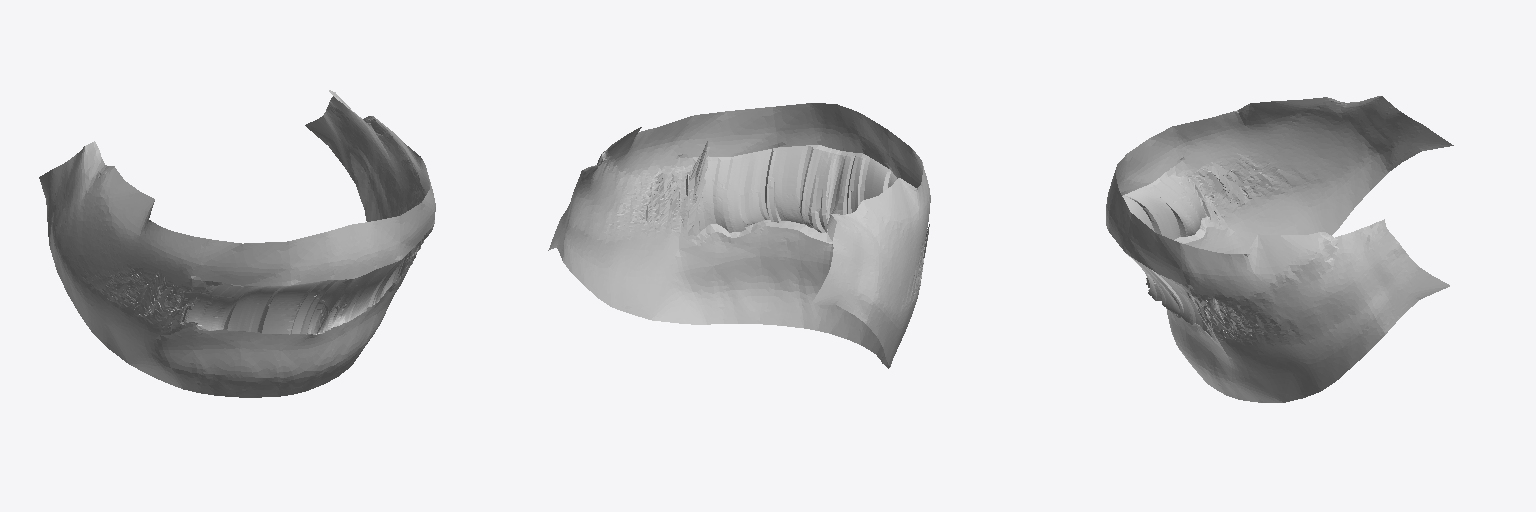
Rendered from cheeks.obj.
The picture shows the model from 3 angles: view 1: azimuth 30°, elevation 25°; view 2: azimuth 150°, elevation 25°; view 3: azimuth 270°, elevation 25°; orthographic projection.
Visible parts, largest first — view 1: set1 set2 tweakSet2; view 2: set1 set2 tweakSet2; view 3: set1 set2 tweakSet2.
Part boxes in pixels (x1,y1,x2,y2): set1 set2 tweakSet2: (39,90,435,397); set1 set2 tweakSet2: (548,103,930,368); set1 set2 tweakSet2: (1106,96,1453,402).
Bounding box in the file's own units: 0.0693 × 0.0446 × 0.0664.